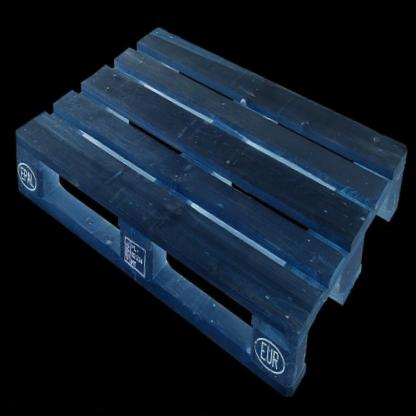BoxFace: (14, 21, 410, 410)
